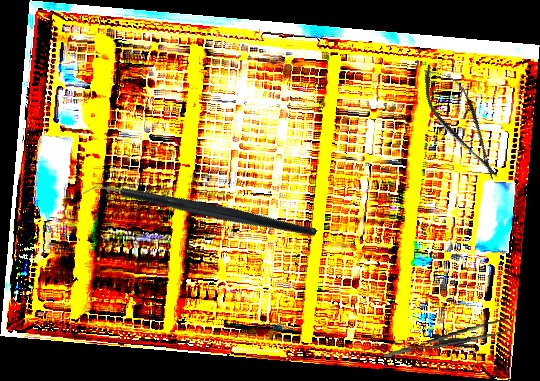Chopper: (77, 112, 318, 313)
Micro Scissor: (410, 54, 513, 190)
Tissue Forceps: (381, 317, 515, 358)
